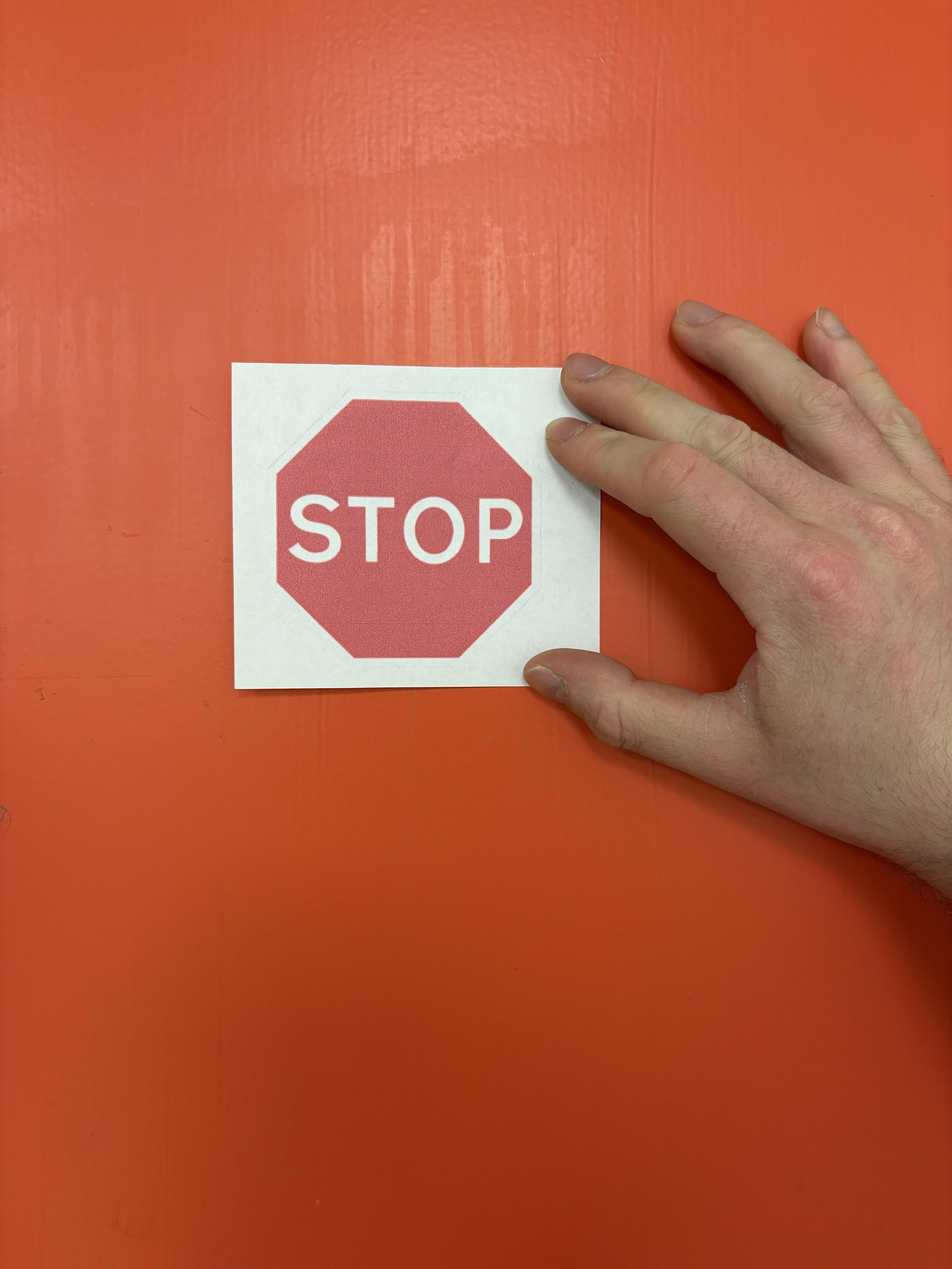Stop: (173, 487, 450, 918)
